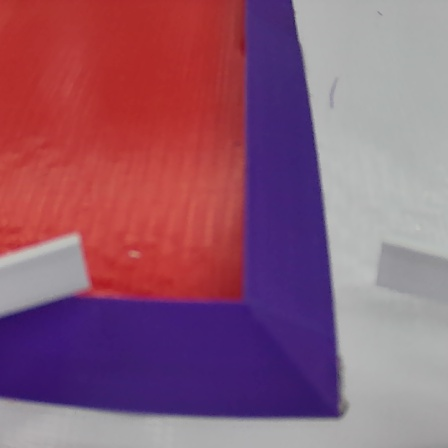red_aim: (1, 1, 342, 416)
